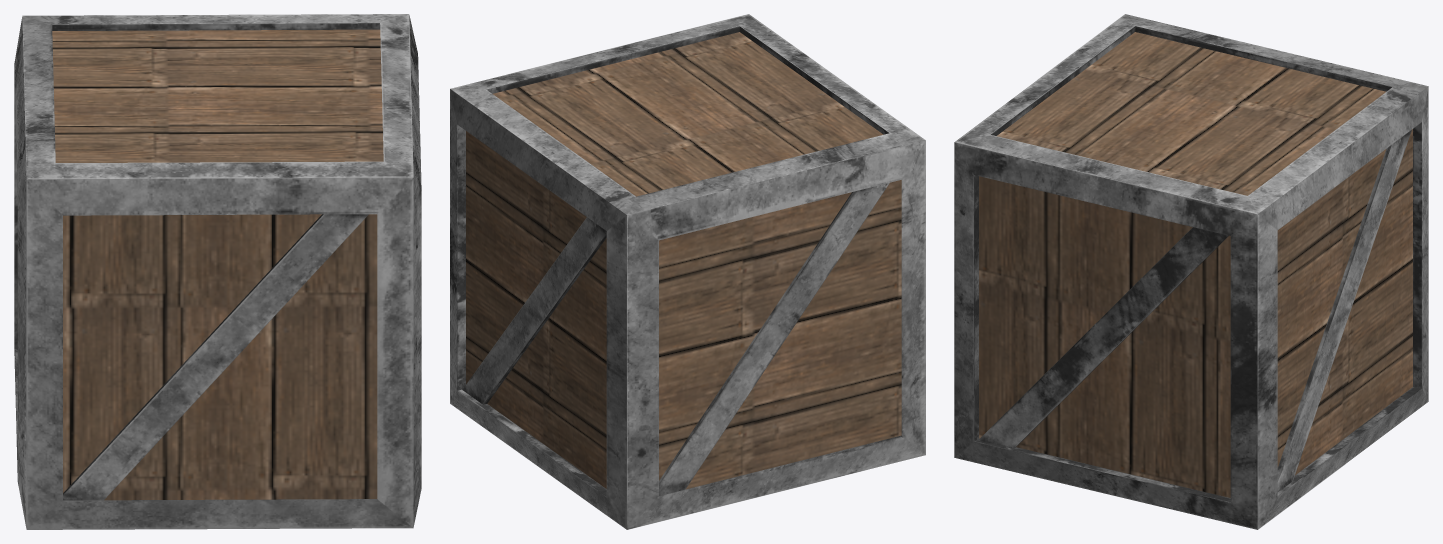
File: caja.obj
3 views of the same model, side by side, from view 1: azimuth 30°, elevation 25°; view 2: azimuth 150°, elevation 25°; view 3: azimuth 270°, elevation 25° (orthographic). The views are drawn at different scales.
Parts seen in each view (by area): view 1: caja_Mesh; view 2: caja_Mesh; view 3: caja_Mesh.
Part boxes in pixels (x1,y1,x2,y2): caja_Mesh: (14,14,421,529); caja_Mesh: (450,14,925,529); caja_Mesh: (954,14,1428,529).
Size of the model in its own units: 1.11 by 0.8388 by 1.11.
1 material, 1 textured.
